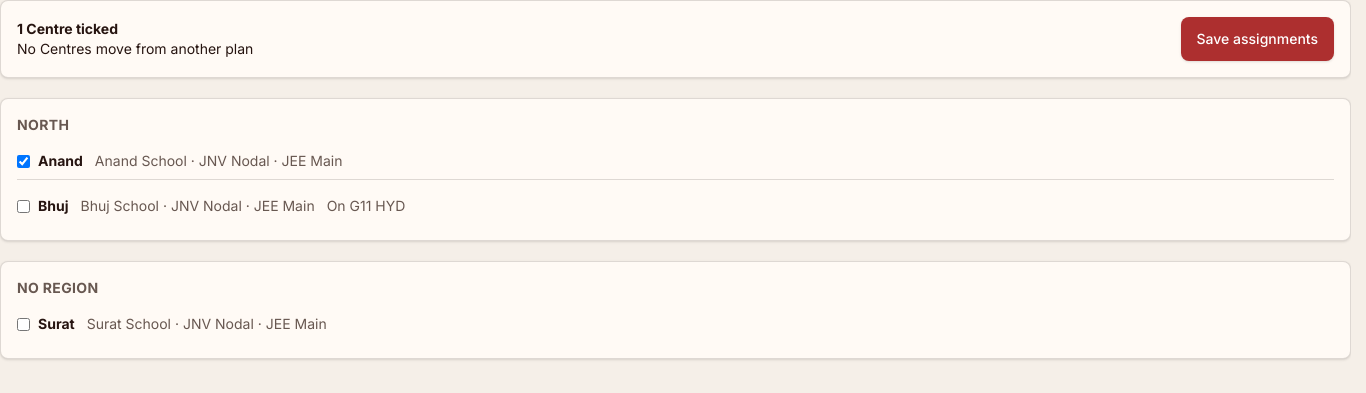
Scenario: CurriculumPlanAssignForm › names the moves, removals and Centres no longer eligible that saving will remove
Click the checkbox labelled "Bhuj" at (24, 206), box [17,200,30,212]
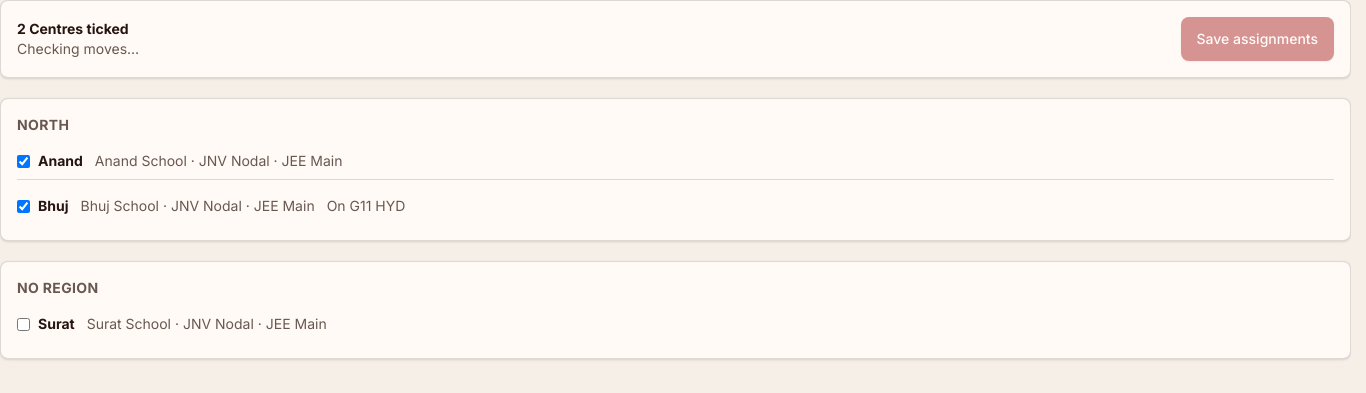
Click the checkbox labelled "Anand" at (24, 161), box [17,154,30,168]
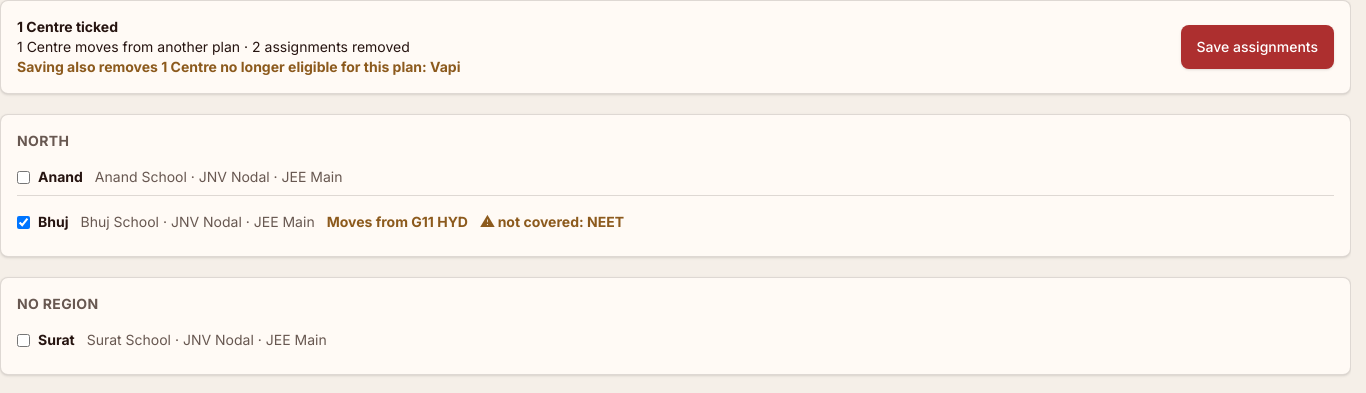
Check: the text with test id "assign-move-count" reads "1 Centre moves from another plan · 2 assignments removed", box [17,37,460,57]
Check: the text with test id "assign-ineligible-removals" reads "Saving also removes 1 Centre no longer eligible for this plan: Vapi", box [17,57,460,77]
Check: the text "Moves from G11 HYD" is shown, box [327,212,468,232]
